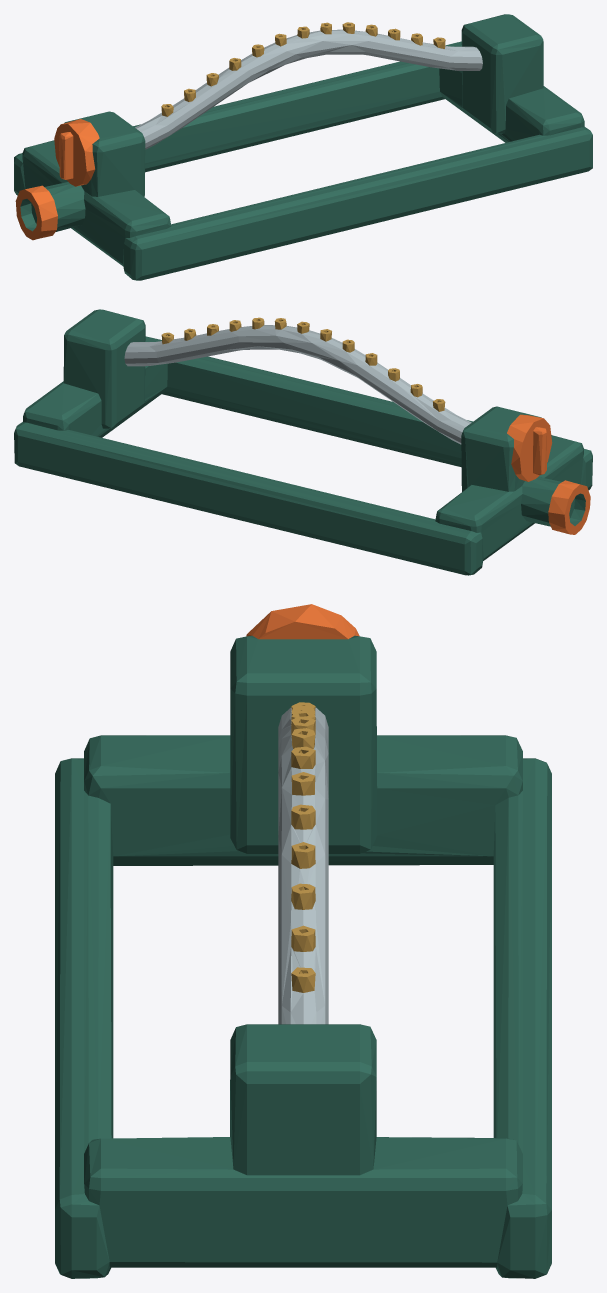
The model's file is NEW_RECOVERY_113_LOD2.glb.
3 views of the same model, one above another, from view 1: azimuth 30°, elevation 25°; view 2: azimuth 150°, elevation 25°; view 3: azimuth 270°, elevation 25° (orthographic). The views are drawn at different scales.
Parts seen in each view (by area): view 1: Oscillating sprinkler static prop; view 2: Oscillating sprinkler static prop; view 3: Oscillating sprinkler static prop.
Boxes of the visible parts, box(x1,y1,x2,y2) form: Oscillating sprinkler static prop: box(14, 14, 592, 280); Oscillating sprinkler static prop: box(14, 309, 592, 575); Oscillating sprinkler static prop: box(55, 604, 551, 1278).
Bounding box in the file's own units: 0.558 × 0.163 × 0.238.
